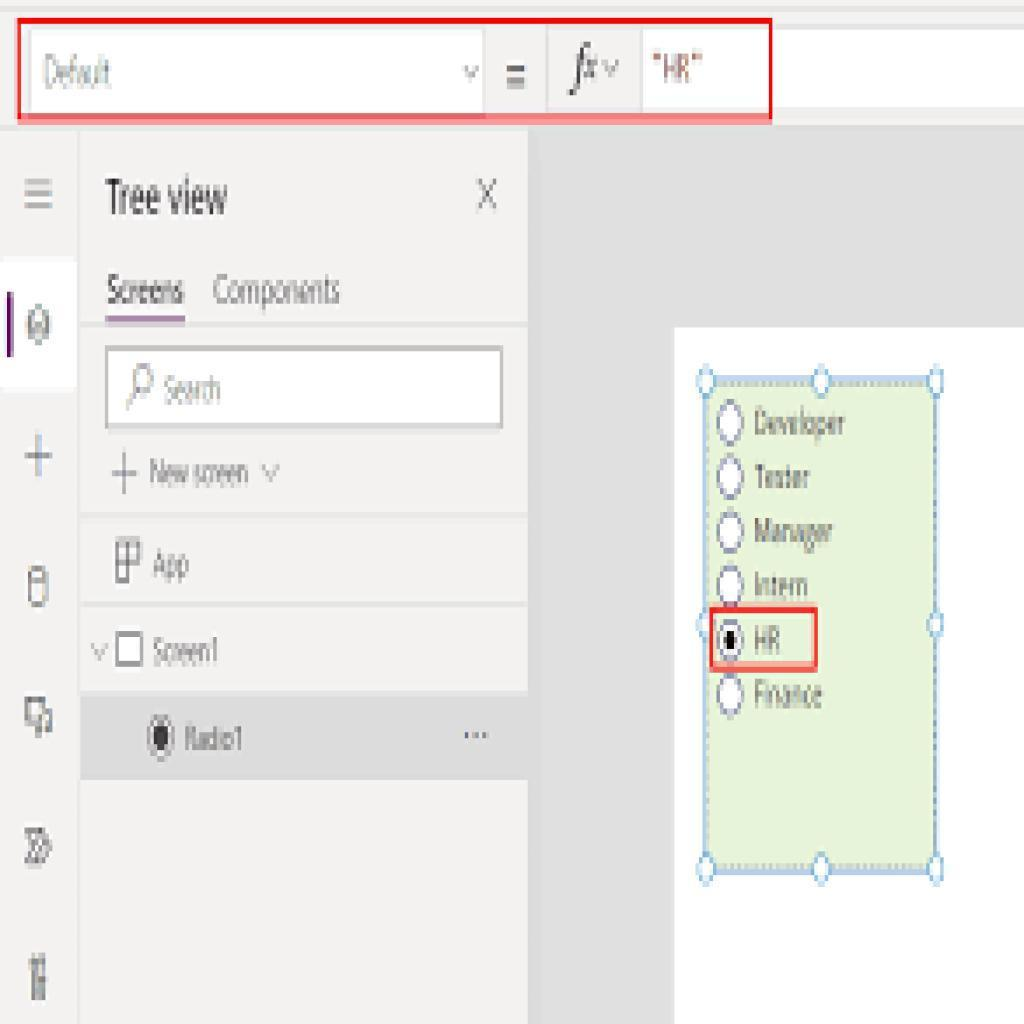checkbox: (118, 634, 145, 665)
dropdown: (32, 29, 485, 115)
icon: (23, 693, 58, 741), (22, 824, 56, 870), (112, 535, 143, 584), (25, 302, 57, 349), (112, 448, 141, 499), (24, 432, 55, 479), (27, 950, 52, 1008), (20, 176, 58, 214), (26, 565, 54, 610), (260, 458, 287, 490), (476, 177, 500, 212), (461, 728, 492, 746)
input: (107, 347, 503, 428)
label: (211, 272, 347, 310), (150, 458, 251, 495), (105, 267, 188, 311), (152, 632, 222, 672), (185, 721, 247, 757), (152, 547, 191, 588)
radio: (147, 713, 178, 764), (716, 453, 748, 502), (717, 507, 748, 556), (716, 397, 746, 447), (717, 673, 747, 723), (716, 619, 747, 662), (718, 565, 746, 608)
